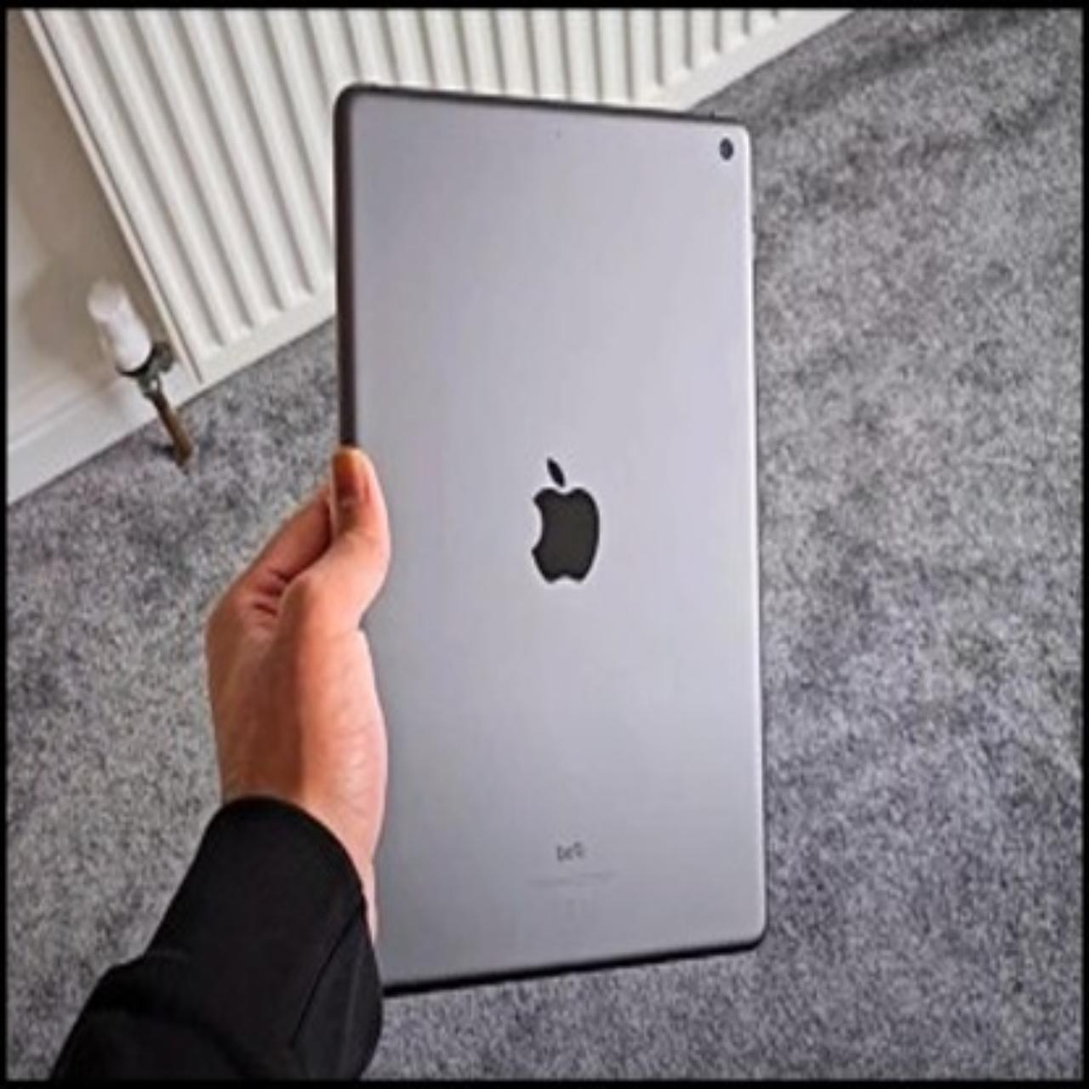Tablet_PC: (299, 78, 790, 1002)
